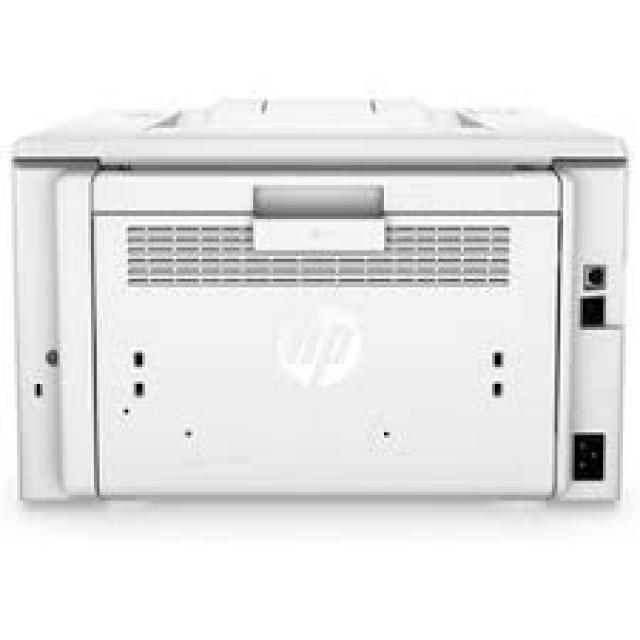printer: (9, 91, 628, 503)
